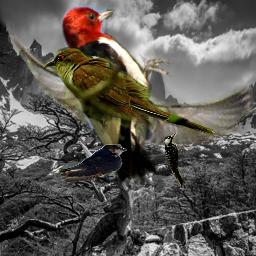Cuckoo: (43, 46, 217, 136)
Swallow: (8, 35, 256, 184), (59, 144, 127, 182)
Woodpecker: (60, 5, 172, 190), (161, 131, 188, 192)
